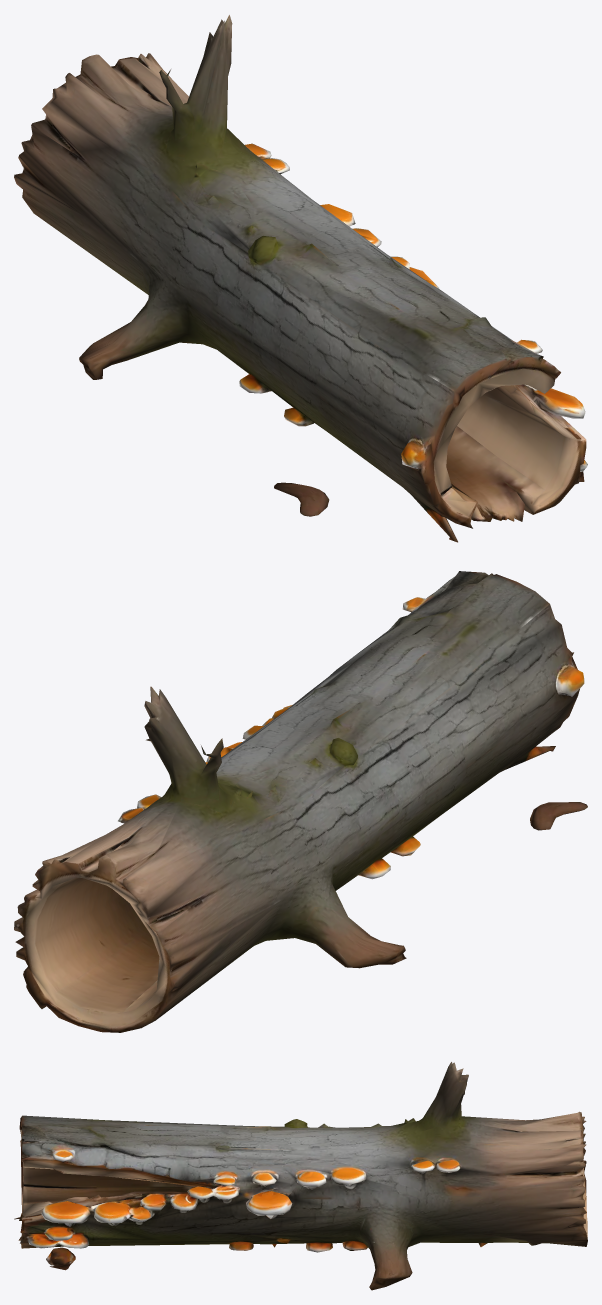
The model's file is MushroomLog.opt.glb.
3 views of the same model, one above another, from view 1: azimuth 30°, elevation 25°; view 2: azimuth 150°, elevation 25°; view 3: azimuth 270°, elevation 25° (orthographic). The views are drawn at different scales.
Parts seen in each view (by area): view 1: node_0; view 2: node_0; view 3: node_0.
Boxes of the visible parts, x1,y1,x2,y2 form: node_0: (14, 15, 587, 542); node_0: (14, 571, 587, 1032); node_0: (14, 1062, 587, 1290).
Size of the model in its own units: 0.5061 by 0.4046 by 1.12.
1 material, 1 textured.
